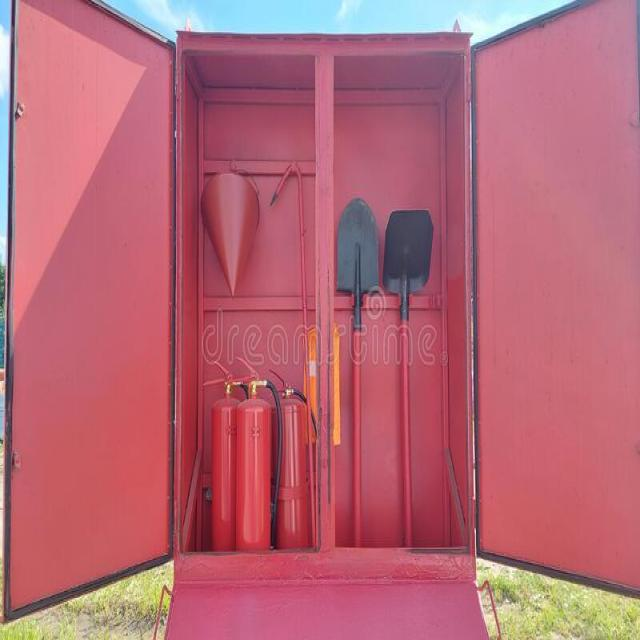fire_extinguisher: (263, 359, 320, 560), (229, 349, 282, 557), (201, 359, 250, 554)
